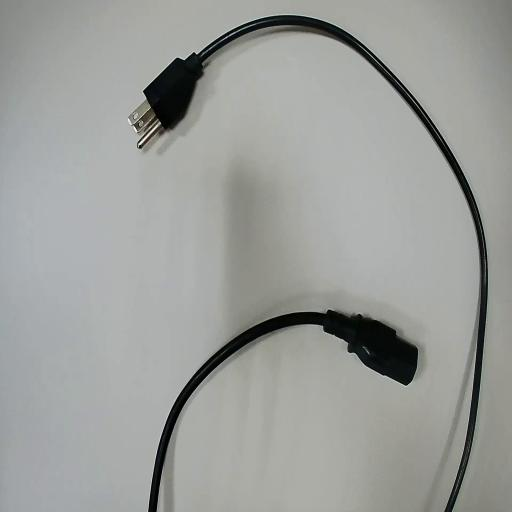wire: (145, 16, 486, 511), (149, 311, 417, 511)
